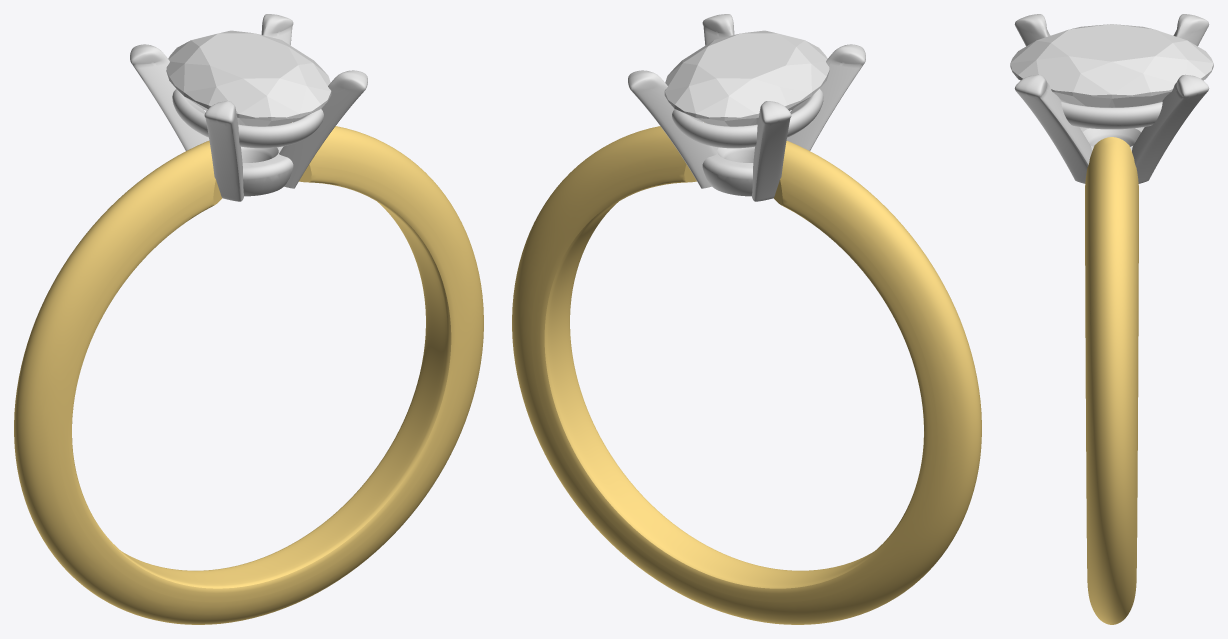
File: Matt_N_claw_blender.glb
3 views of the same model, side by side, from view 1: azimuth 30°, elevation 25°; view 2: azimuth 150°, elevation 25°; view 3: azimuth 270°, elevation 25° (orthographic).
Parts seen in each view (by area): view 1: Nelson YG for 3d model, Nelson PT claw for 3d model, Nelson dia for 3d model; view 2: Nelson YG for 3d model, Nelson PT claw for 3d model, Nelson dia for 3d model; view 3: Nelson YG for 3d model, Nelson dia for 3d model, Nelson PT claw for 3d model.
Boxes of the visible parts, x1,y1,x2,y2 form: Nelson YG for 3d model: (14,126,483,624); Nelson PT claw for 3d model: (130,14,367,201); Nelson dia for 3d model: (166,30,331,126); Nelson YG for 3d model: (512,126,981,624); Nelson PT claw for 3d model: (628,14,865,201); Nelson dia for 3d model: (664,30,829,126); Nelson YG for 3d model: (1085,137,1138,624); Nelson dia for 3d model: (1010,24,1213,107); Nelson PT claw for 3d model: (1014,14,1209,183).
Bounding box in the file's own units: 19.69 × 22.69 × 7.5.
